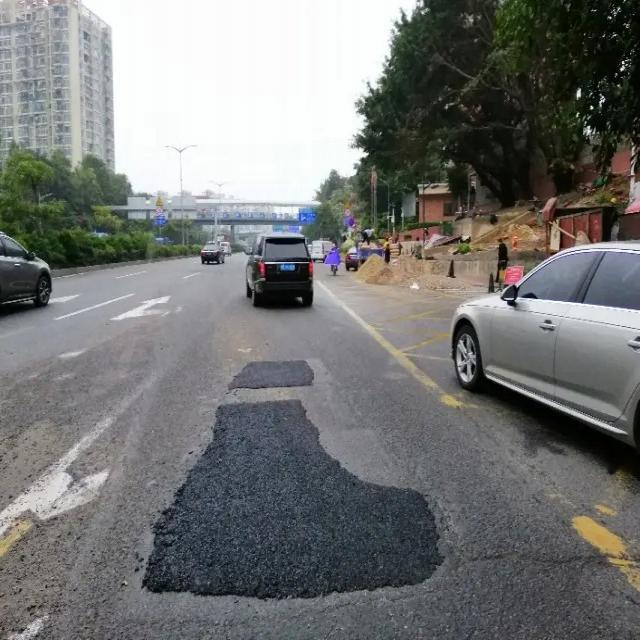pothole: (142, 396, 444, 602), (228, 359, 316, 386)
